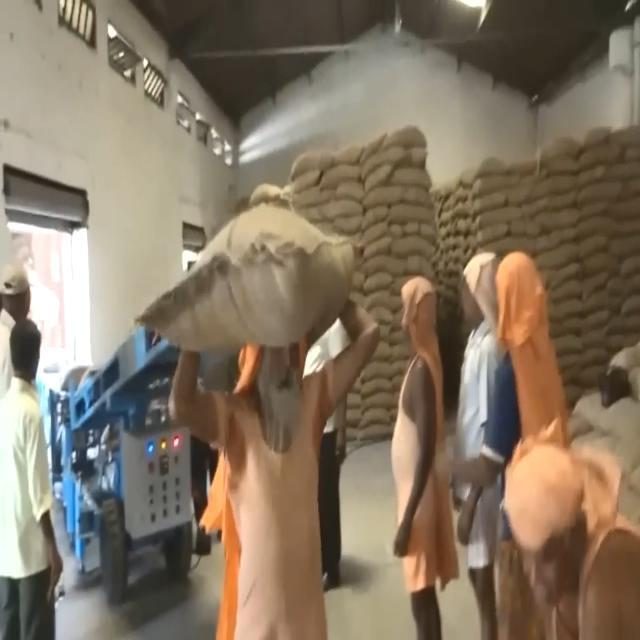gunny_bag: (136, 199, 358, 359), (286, 146, 342, 182), (388, 198, 438, 234), (574, 140, 627, 172), (536, 238, 586, 270), (528, 173, 580, 203), (316, 164, 368, 194), (546, 276, 592, 308), (360, 148, 408, 178), (468, 169, 517, 197), (576, 180, 624, 208), (355, 218, 395, 250), (477, 206, 524, 233), (357, 200, 395, 233), (354, 393, 390, 427), (378, 128, 432, 150), (536, 207, 579, 234), (388, 236, 431, 262), (570, 218, 616, 242), (354, 256, 402, 279), (356, 374, 398, 400), (322, 195, 362, 218), (383, 168, 434, 186), (584, 250, 618, 276), (370, 182, 400, 207), (397, 254, 434, 274), (477, 191, 510, 213), (390, 187, 432, 204), (586, 293, 608, 316), (580, 332, 608, 348), (586, 313, 608, 329)
